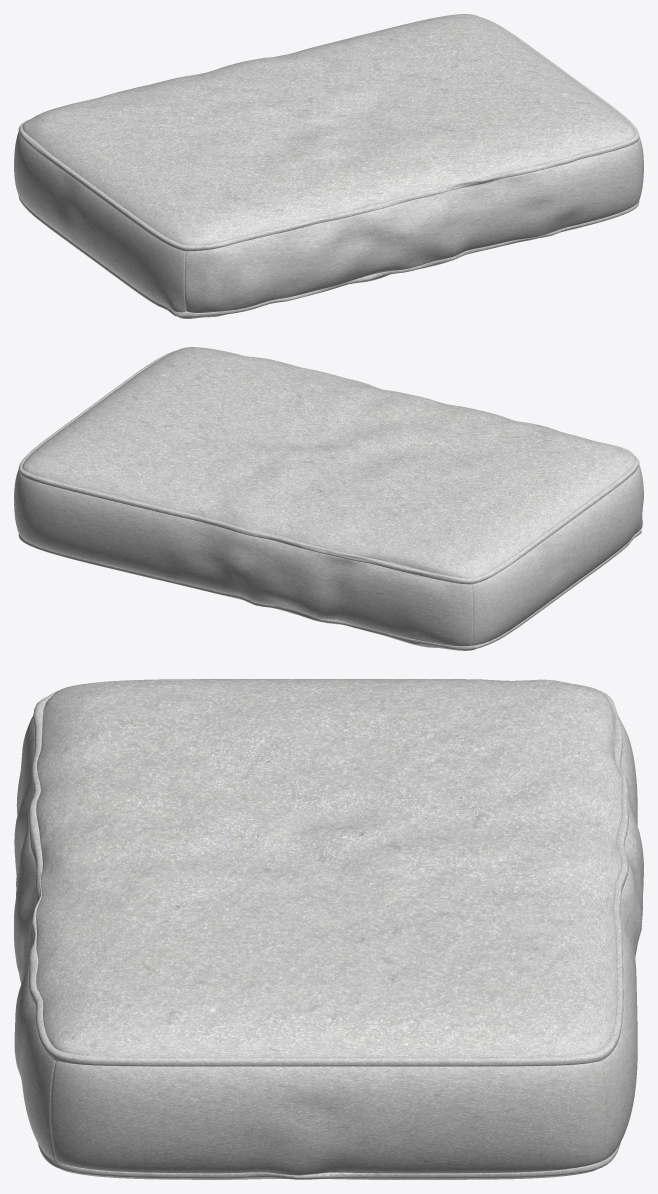
The model's file is mattress.glb.
The picture shows the model from 3 angles, top to bottom: view 1: azimuth 30°, elevation 25°; view 2: azimuth 150°, elevation 25°; view 3: azimuth 270°, elevation 25°; orthographic projection. The views are drawn at different scales.
Parts seen in each view (by area): view 1: Object001_07 - Default_0, Box001; view 2: Object001_07 - Default_0, Box001; view 3: Object001_07 - Default_0, Box001.
Boxes of the visible parts, bbox=[...] form: Object001_07 - Default_0: bbox=[22, 14, 635, 245]; Box001: bbox=[14, 17, 643, 318]; Object001_07 - Default_0: bbox=[22, 347, 636, 578]; Box001: bbox=[14, 350, 643, 650]; Object001_07 - Default_0: bbox=[35, 679, 622, 1057]; Box001: bbox=[14, 690, 643, 1179].
Size of the model in its own units: 147 by 30.01 by 99.48.
2 materials, 2 textured.
